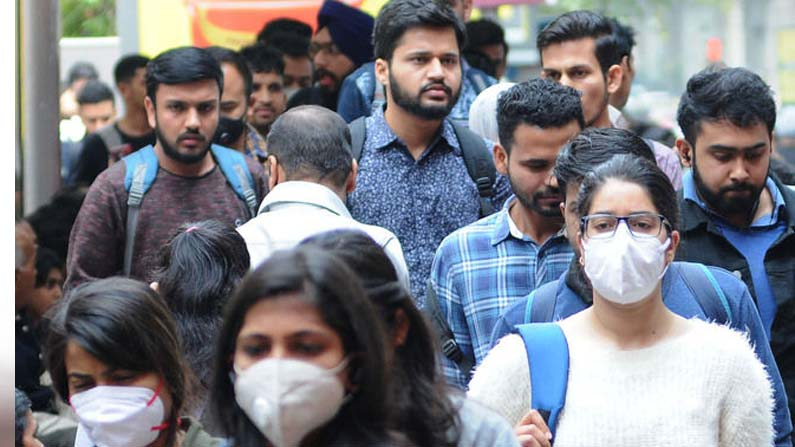with_mask: (232, 312, 344, 438), (54, 346, 166, 447), (583, 189, 663, 301)
without_mask: (698, 126, 772, 209), (397, 33, 465, 112), (155, 85, 217, 158)
